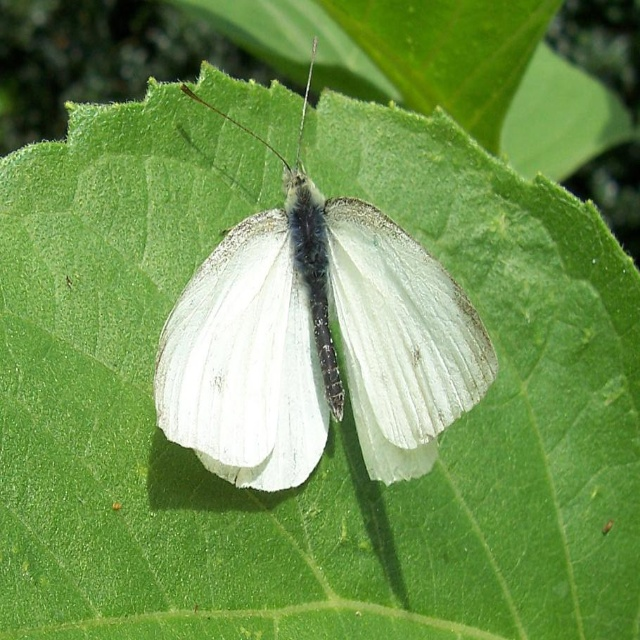Butterfly: (153, 36, 499, 492)
